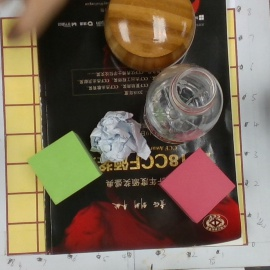bottle: (139, 65, 222, 145)
chess: (102, 1, 194, 69)
